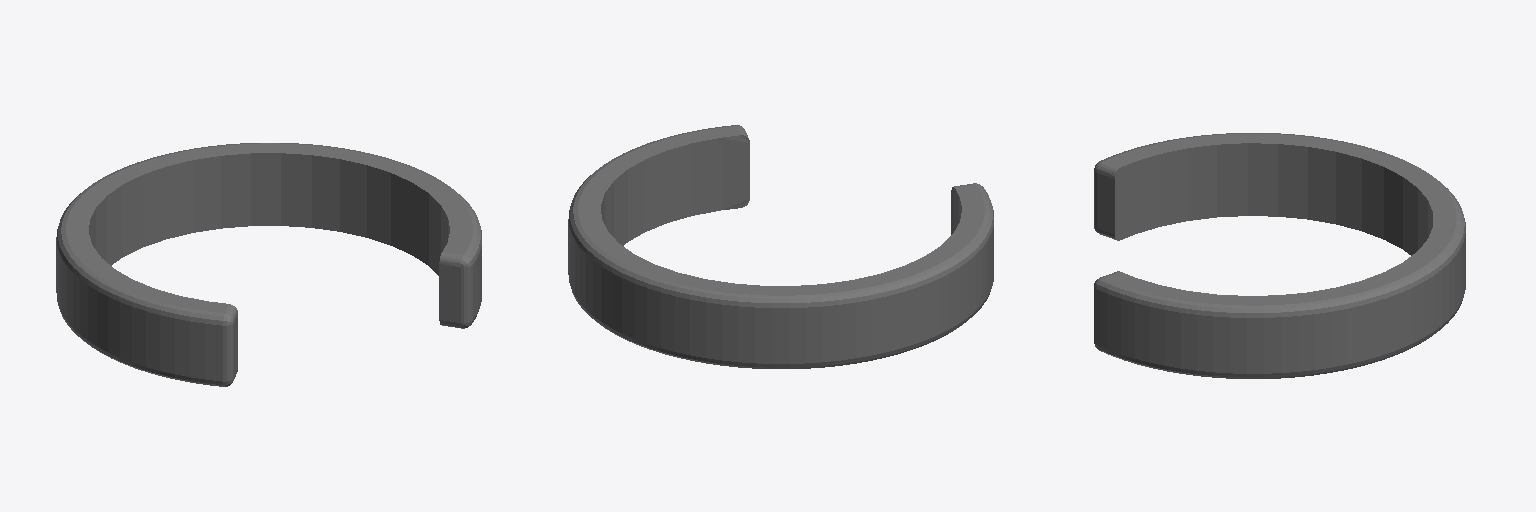
Rendered from solo_lower_leg_v2_right_side_2.obj.
3 views of the same model, side by side, from view 1: azimuth 30°, elevation 25°; view 2: azimuth 150°, elevation 25°; view 3: azimuth 270°, elevation 25° (orthographic).
Size of the model in its own units: 0.0318 by 0.006 by 0.0278.